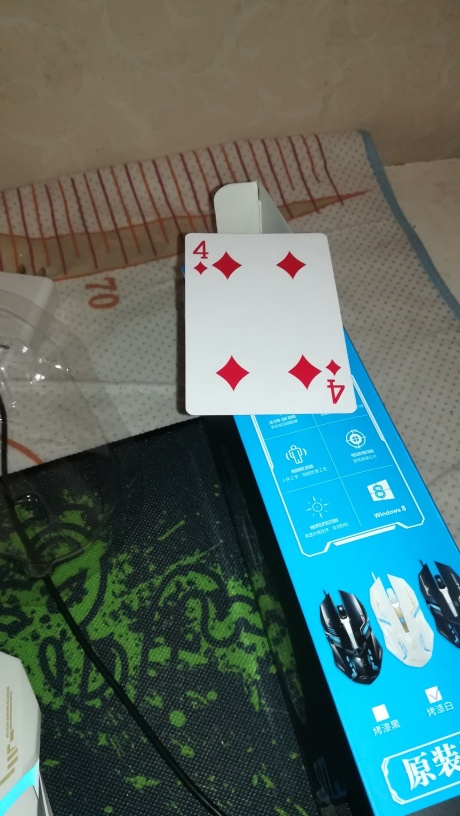fk 4: (180, 228, 356, 417)
